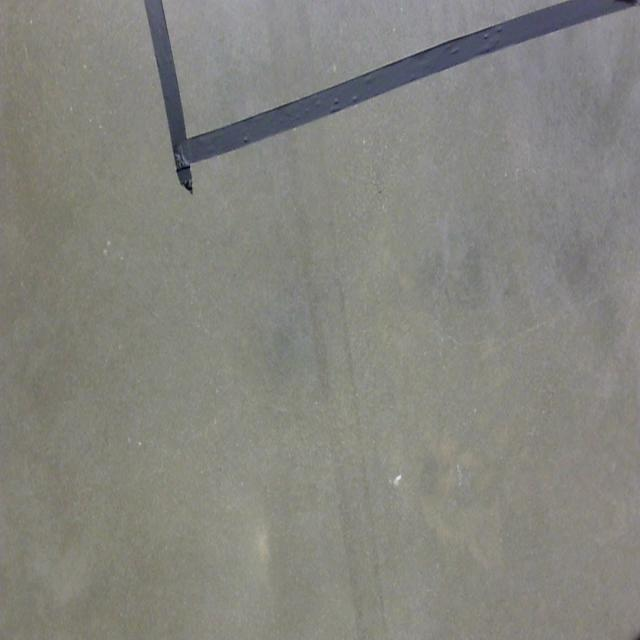tape: (141, 0, 640, 196)
